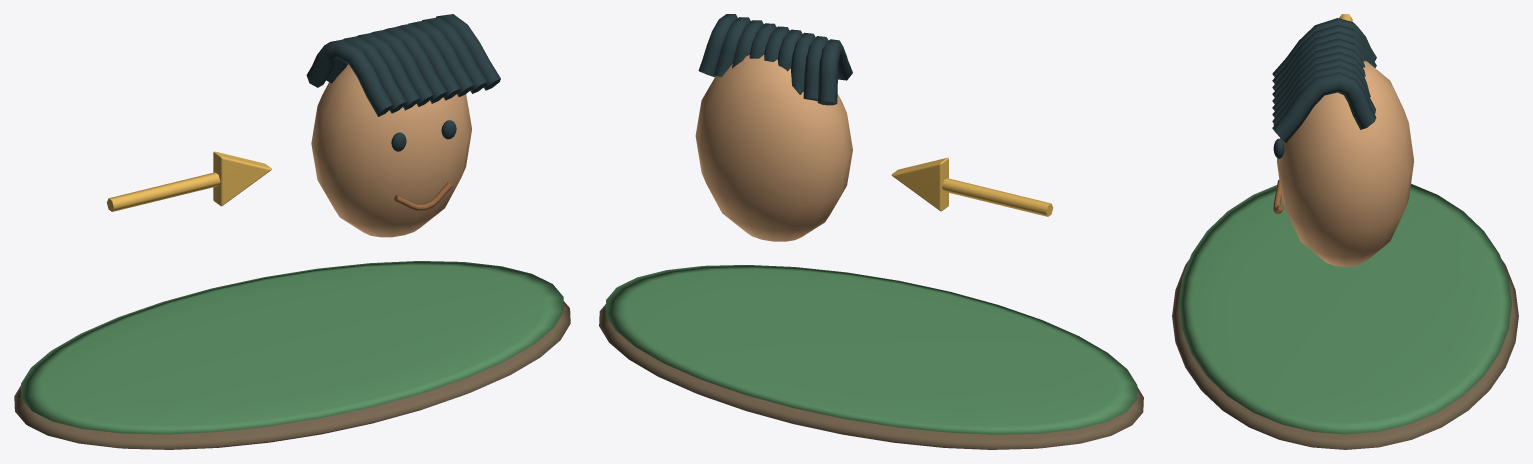
Rendered from opposite-face.glb.
3 renders of one model, left to right at view 1: azimuth 30°, elevation 25°; view 2: azimuth 150°, elevation 25°; view 3: azimuth 270°, elevation 25°, orthographic. The views are drawn at different scales.
Parts seen in each view (by area): view 1: opposite-face_surface_01, opposite-face_surface_03, opposite-face_surface_04, opposite-face_surface_00, opposite-face_surface_02; view 2: opposite-face_surface_01, opposite-face_surface_03, opposite-face_surface_00, opposite-face_surface_04, opposite-face_surface_02; view 3: opposite-face_surface_01, opposite-face_surface_03, opposite-face_surface_04, opposite-face_surface_00.
Boxes of the visible parts, x1,y1,x2,y2 form: opposite-face_surface_01: (21,261,563,434); opposite-face_surface_03: (311,64,471,237); opposite-face_surface_04: (306,14,500,151); opposite-face_surface_00: (14,301,570,449); opposite-face_surface_02: (107,151,271,211); opposite-face_surface_01: (605,265,1137,434); opposite-face_surface_03: (695,55,852,241); opposite-face_surface_00: (599,304,1143,449); opposite-face_surface_04: (698,14,852,105); opposite-face_surface_02: (891,157,1053,216); opposite-face_surface_01: (1179,183,1511,434); opposite-face_surface_03: (1277,61,1413,267); opposite-face_surface_04: (1272,18,1376,158); opposite-face_surface_00: (1172,259,1518,449).
Bounding box in the file's own units: 4.56 × 2.67 × 2.5.
